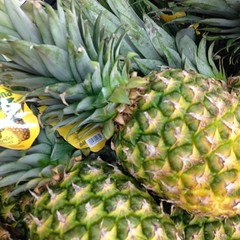Pineapple: (1, 23, 240, 224), (1, 111, 184, 240)
